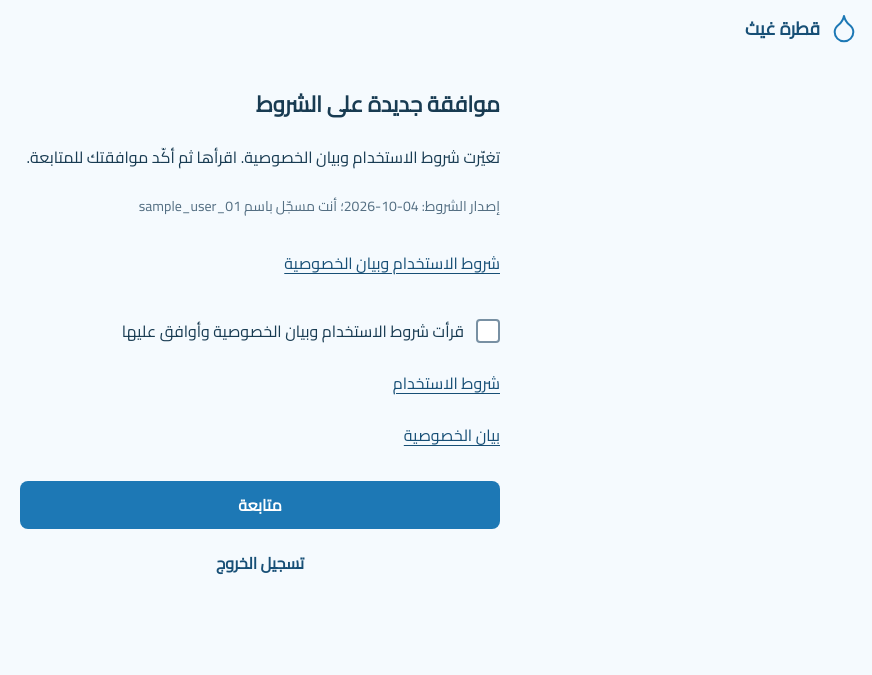
it: S-06 E05 errors (G-18, G-03, P-04 to P-07) › 500 and forbidden_origin: generic alerts, the box kept, focus on Continue
The width and height of the screenshot is (872, 675).
What coordinates should you click on to do the following:
click the checkbox labelled "قرأت شروط الاستخدام وبيان الخصوصية وأوافق عليها"
I would click on:
 (311, 331)
Its box is top-left (122, 316), bottom-right (500, 346).
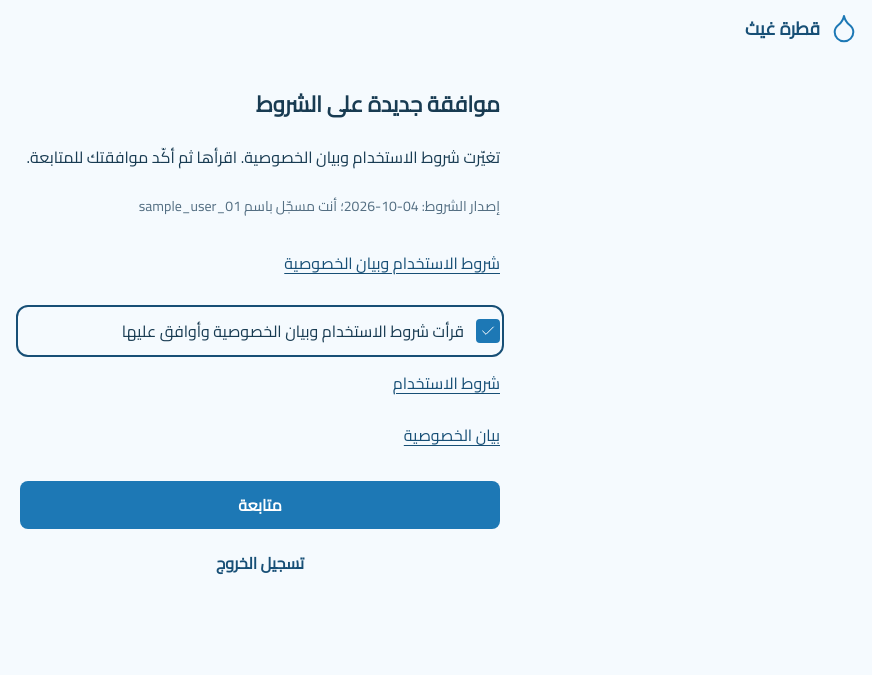
What coordinates should you click on to do the following:
click the button "متابعة"
I would click on:
 (260, 505)
Its box is top-left (20, 481), bottom-right (500, 529).
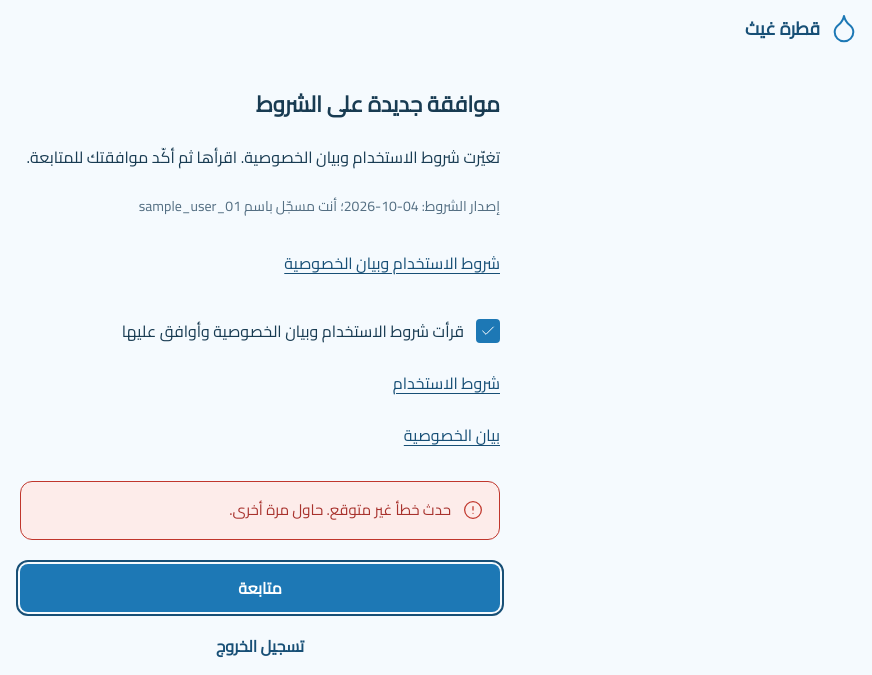
Result: the checkbox labelled "قرأت شروط الاستخدام وبيان الخصوصية وأوافق عليها" is checked at top-left (122, 316), bottom-right (500, 346)
Result: the message reads "حدث خطأ غير متوقع. حاول مرة أخرى." at top-left (229, 495), bottom-right (451, 524)
